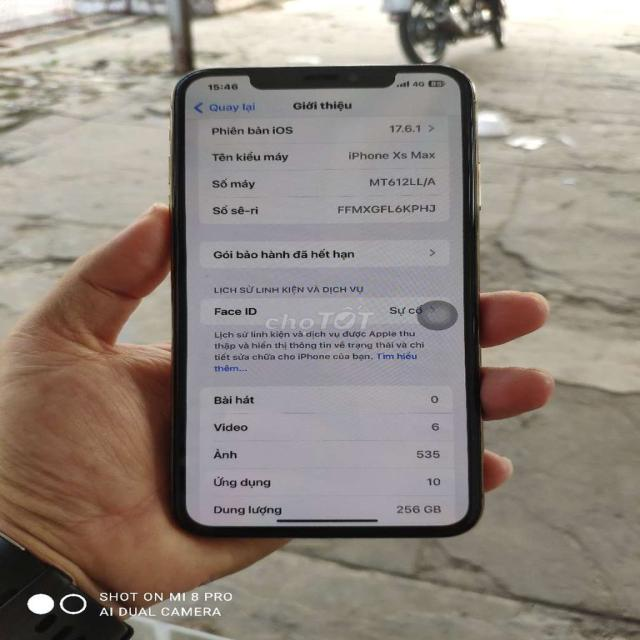gen_x_xs: (162, 64, 490, 545)
